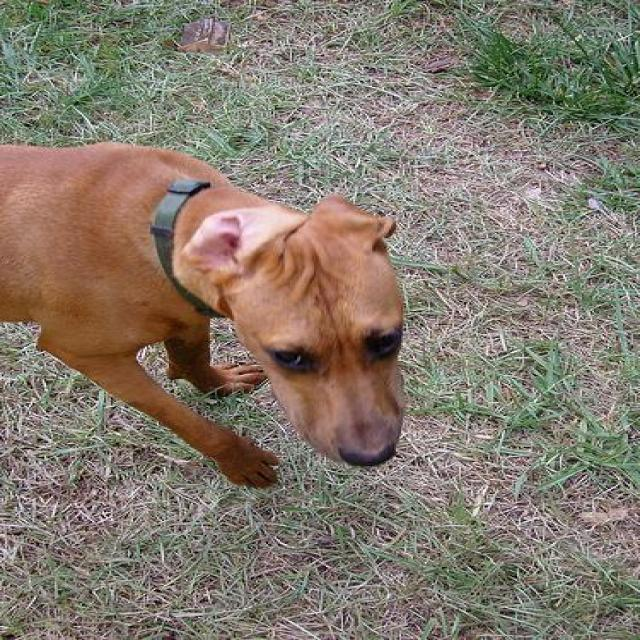rhodesian_ridgeback: (0, 137, 411, 489)
